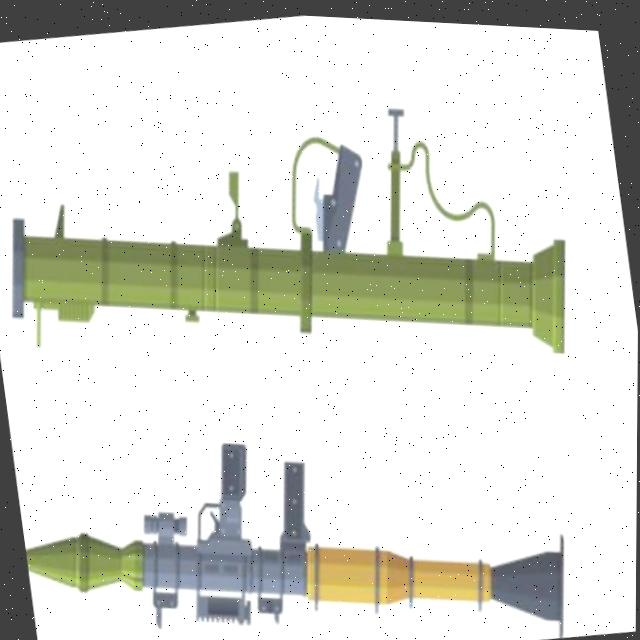rocket: (0, 13, 606, 432), (12, 382, 582, 640)
